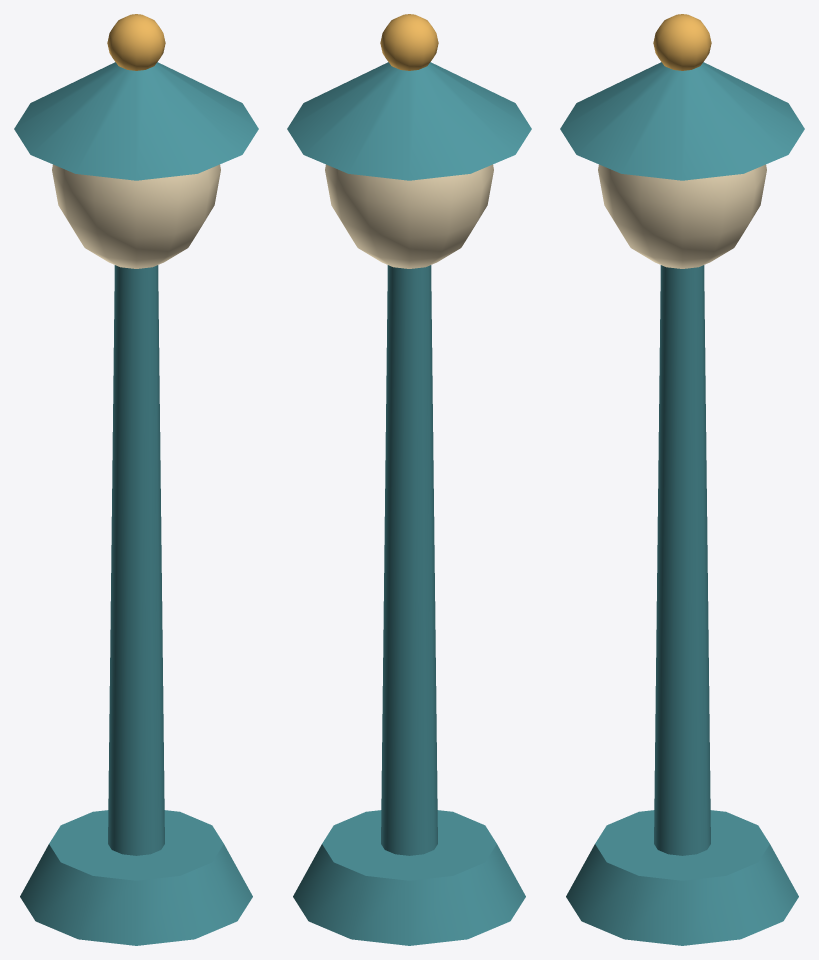
File: prop-square-lamp-4.glb
3 views of the same model, side by side, from view 1: azimuth 30°, elevation 25°; view 2: azimuth 150°, elevation 25°; view 3: azimuth 270°, elevation 25° (orthographic).
Parts seen in each view (by area): view 1: lamp; view 2: lamp; view 3: lamp.
Part boxes in pixels (<box>): lamp: <box>14,14,258,945</box>; lamp: <box>287,14,531,945</box>; lamp: <box>560,14,804,945</box>.
Size of the model in its own units: 0.84 by 3.33 by 0.84.
